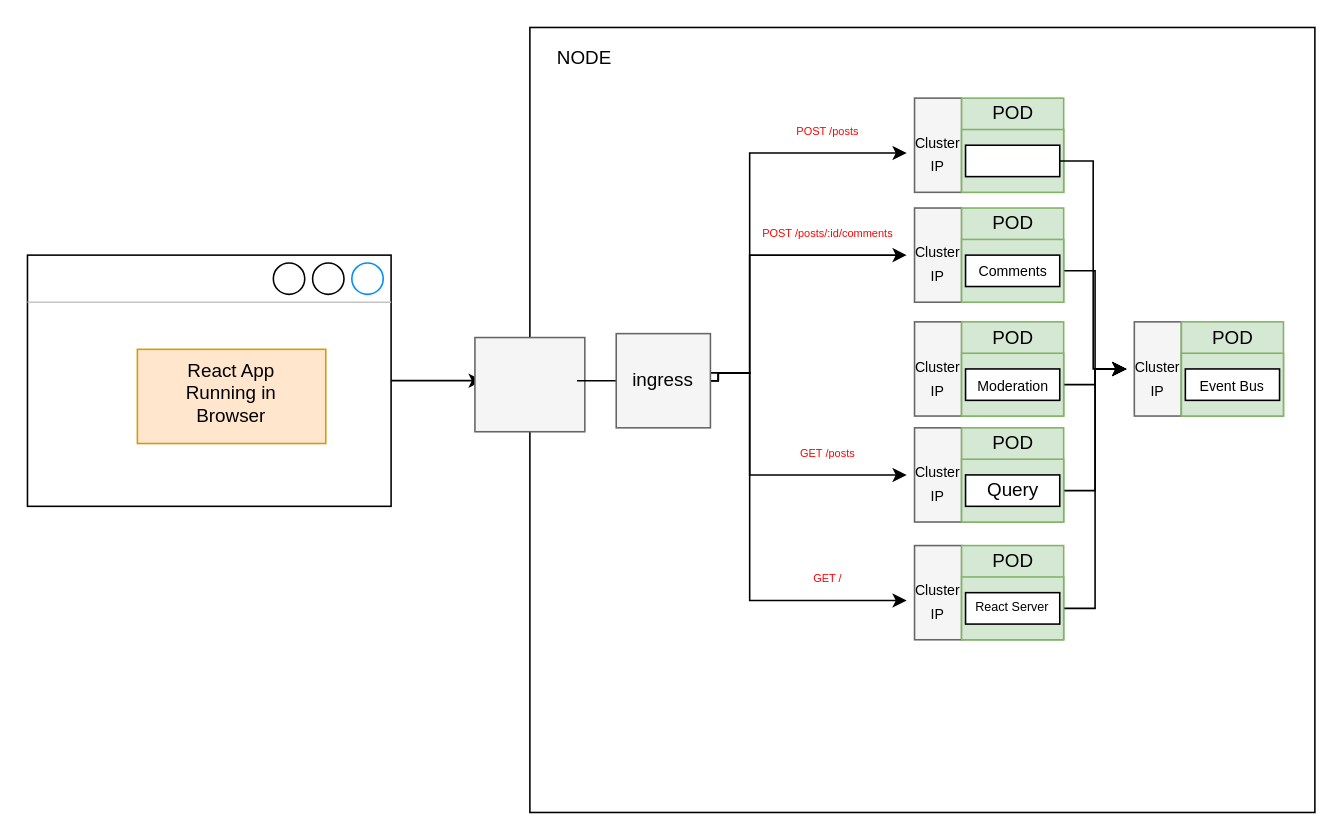
Image size: 1342x840. Some labels were removed from this diagram. The shapes that lost their labels are listed below. From the top down, each one's box as (x1, y1, x2, y2) in pixels, then its label:
(964, 144, 1060, 177): Posts
(26, 254, 391, 506): myblogapp.com
(473, 336, 585, 432): Load balancer
